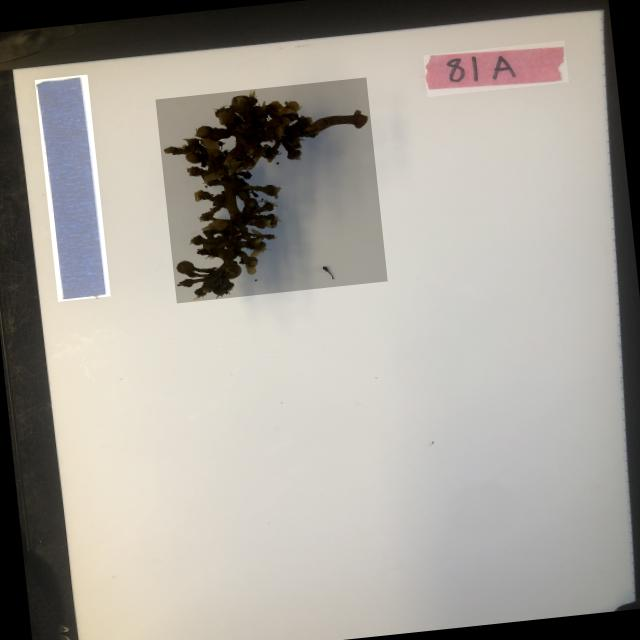index: (422, 41, 568, 98)
measure_label: (34, 74, 110, 301)
rachis_cluster: (155, 77, 387, 303)
